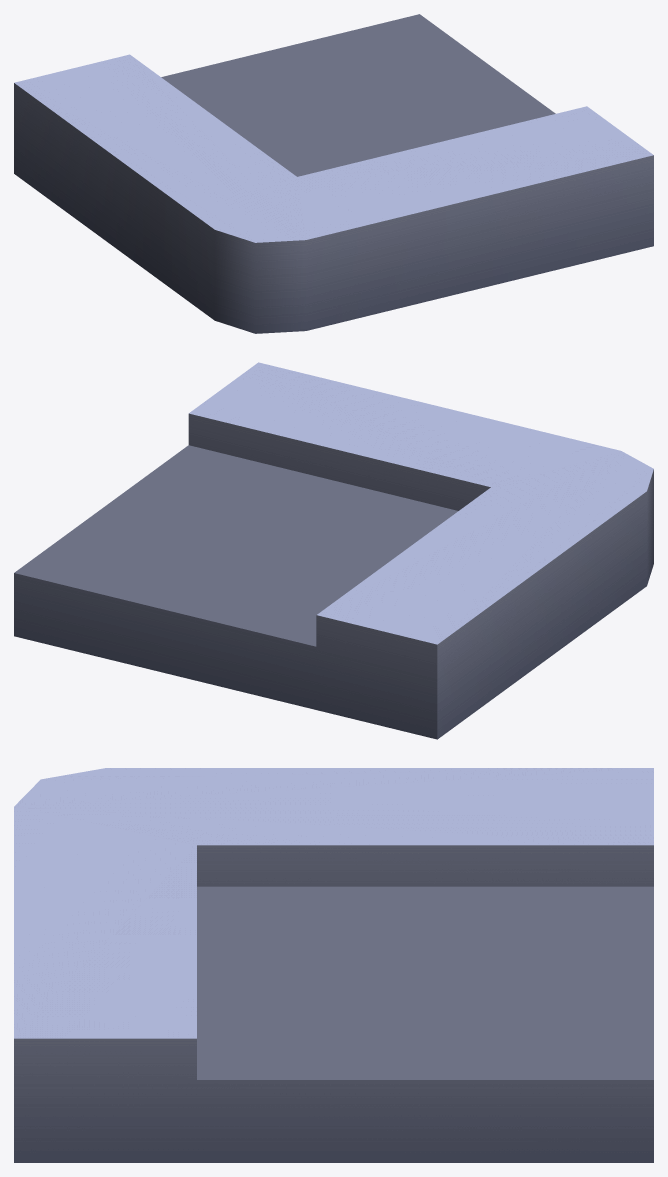
The model's file is balcony-floor-corner.glb.
The picture shows the model from 3 angles, top to bottom: view 1: azimuth 30°, elevation 25°; view 2: azimuth 150°, elevation 25°; view 3: azimuth 270°, elevation 25°; orthographic projection. The views are drawn at different scales.
Visible parts, largest first — view 1: balcony-floor-corner; view 2: balcony-floor-corner; view 3: balcony-floor-corner.
Part boxes in pixels (<box>): balcony-floor-corner: <box>14,14,653,333</box>; balcony-floor-corner: <box>14,362,653,739</box>; balcony-floor-corner: <box>14,768,653,1162</box>.
Size of the model in its own units: 0.7 by 0.15 by 0.7.
1 material, 1 textured.
